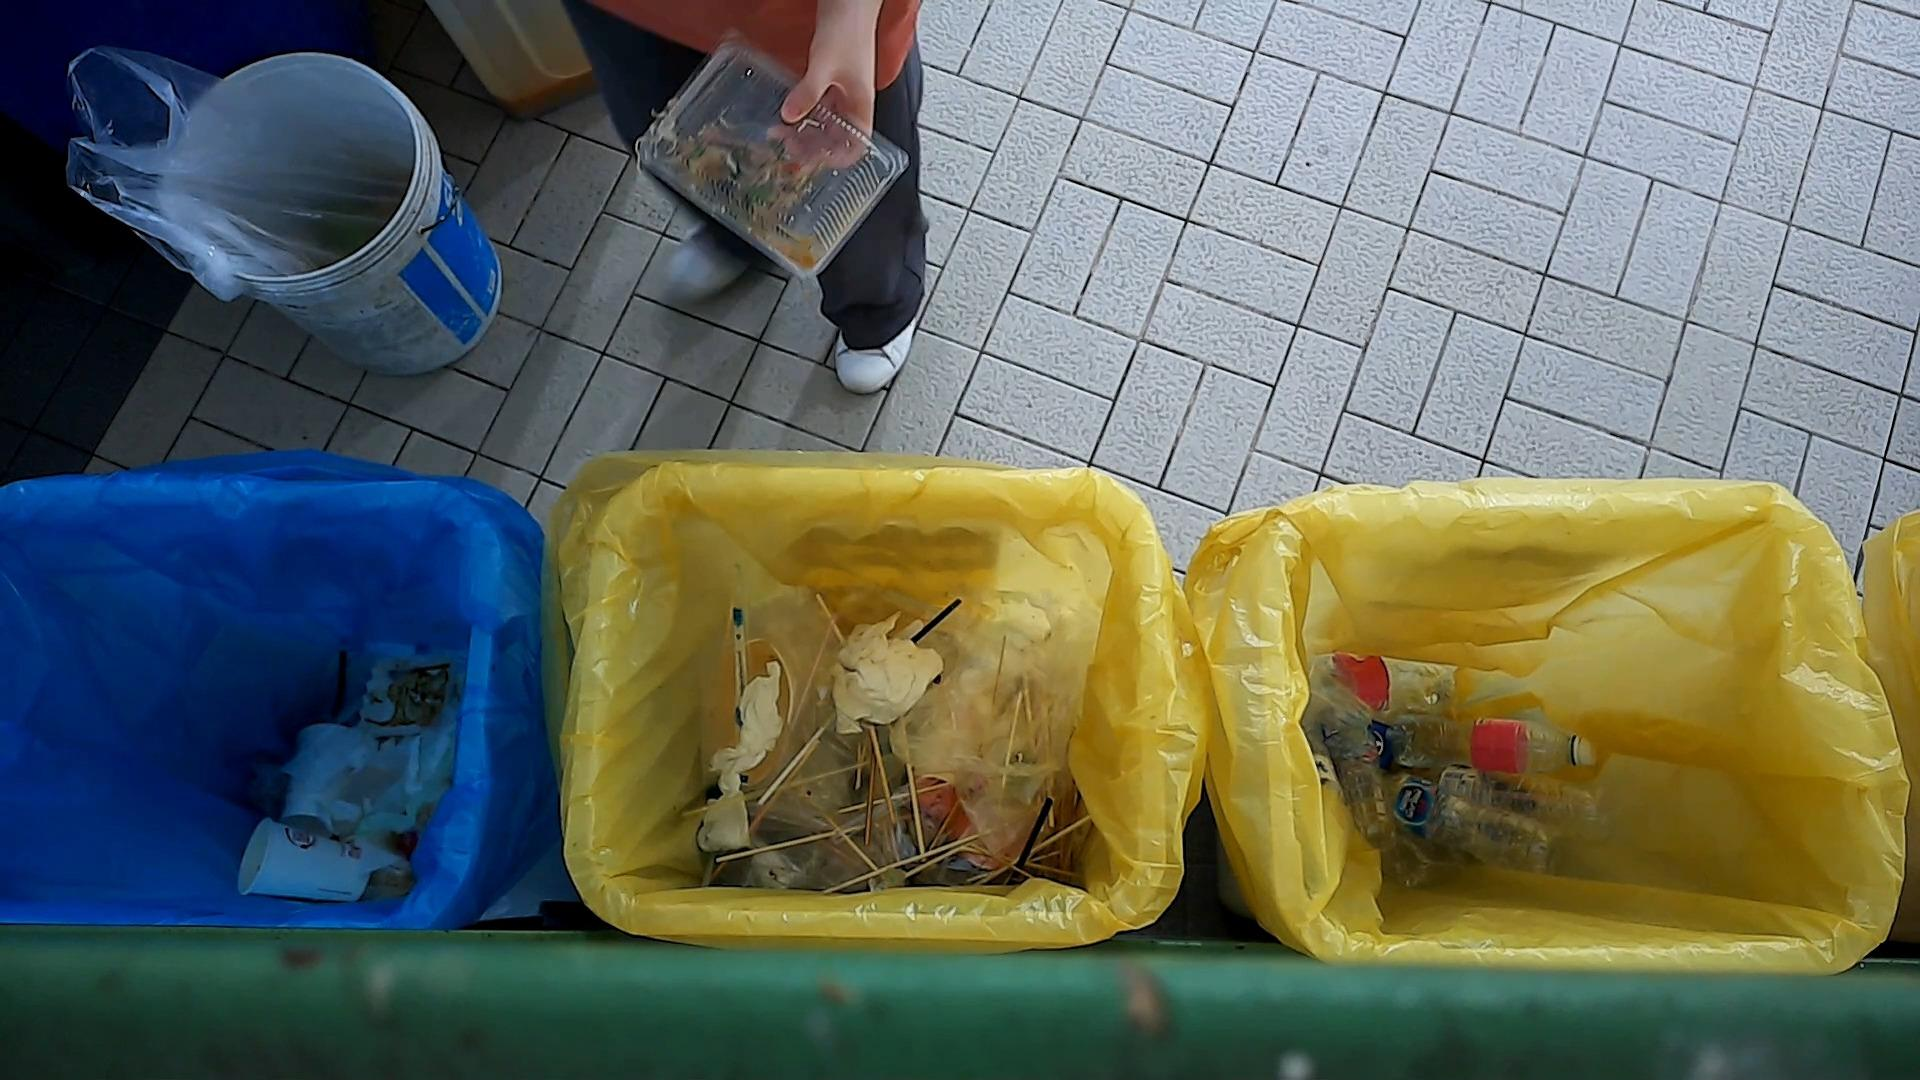dirty food container: (621, 24, 919, 287), (349, 654, 460, 738)
filled plastic bag: (889, 579, 1102, 865)
plastic bag: (309, 716, 460, 848)
plastic bottle: (1382, 766, 1569, 880), (1435, 765, 1615, 849), (1387, 712, 1604, 778), (1321, 698, 1404, 844)
sticks: (820, 835, 981, 895), (975, 811, 1093, 886), (713, 818, 880, 868), (836, 783, 949, 816), (823, 811, 882, 872), (866, 724, 899, 824), (905, 760, 931, 869), (862, 752, 877, 847)
straw: (678, 752, 890, 819), (756, 708, 841, 807), (787, 609, 840, 736), (1009, 793, 1055, 886), (324, 649, 351, 723)
tissue paper: (824, 608, 949, 737), (705, 654, 785, 800), (692, 789, 753, 856)
zero waste cup: (229, 811, 377, 907), (276, 720, 375, 841)
